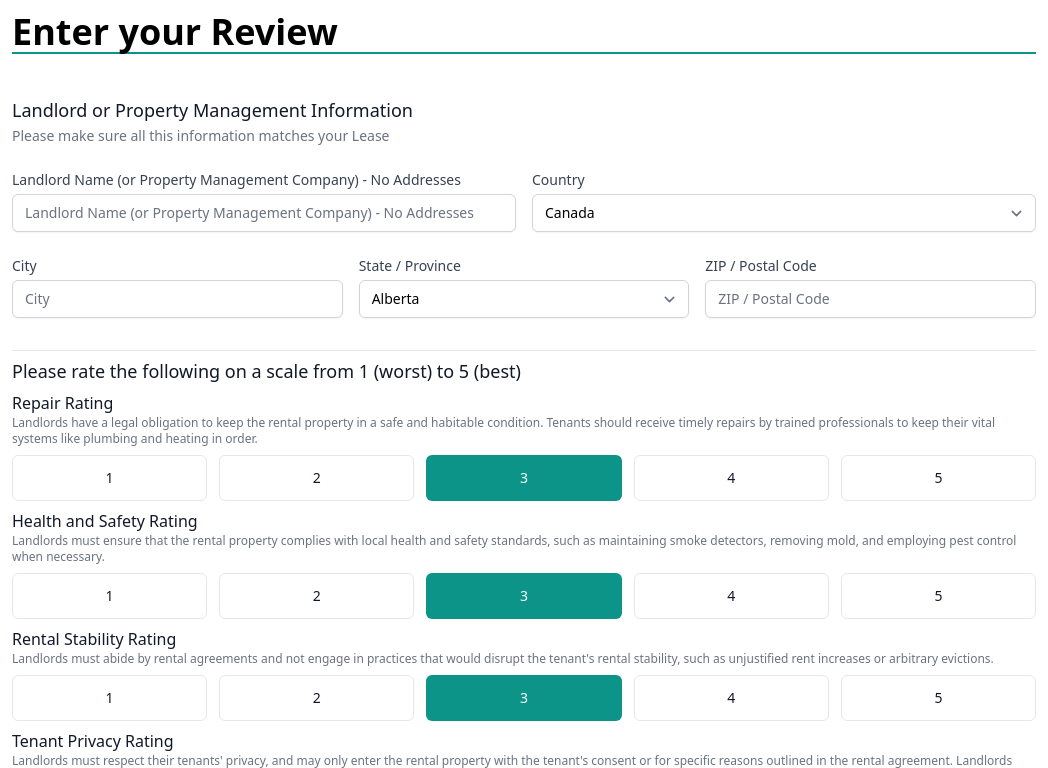
Scenario: Reset button clears the form
Type "V6C 1S9" into the field with test id "create-review-form-postal-code-1" at (871,299), box [705,280,1036,318]
(page scrolled)
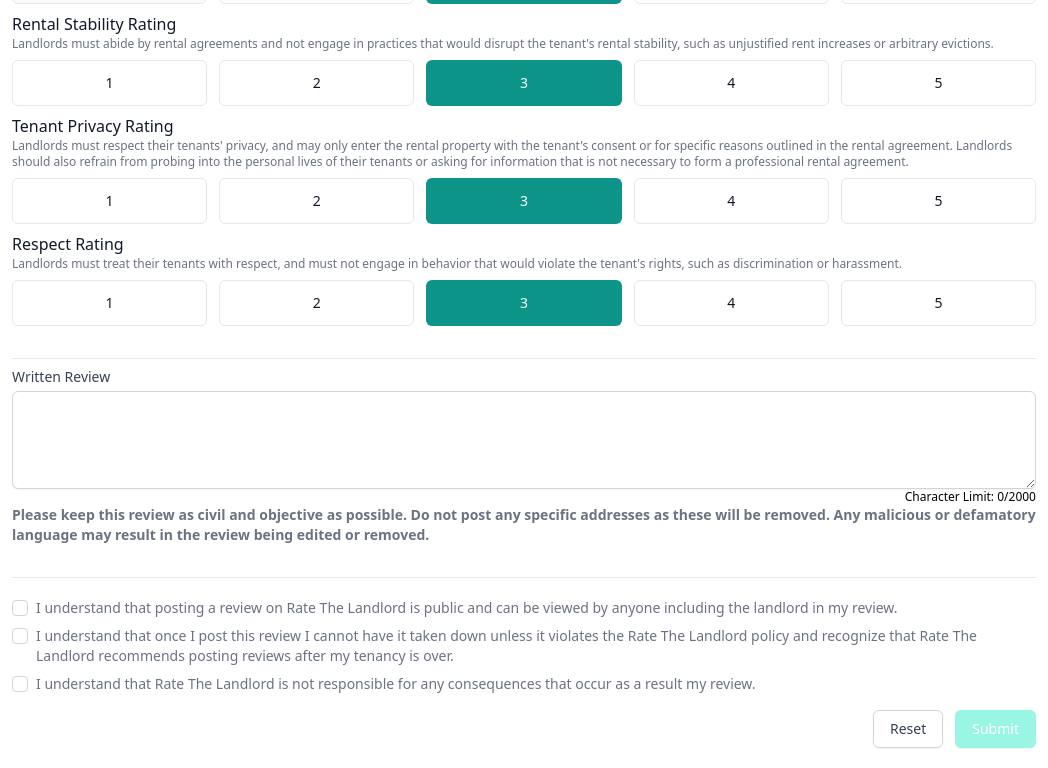
Type "some review" into the text box with test id "create-review-form-text-1" at (524,440), box [12,391,1036,489]
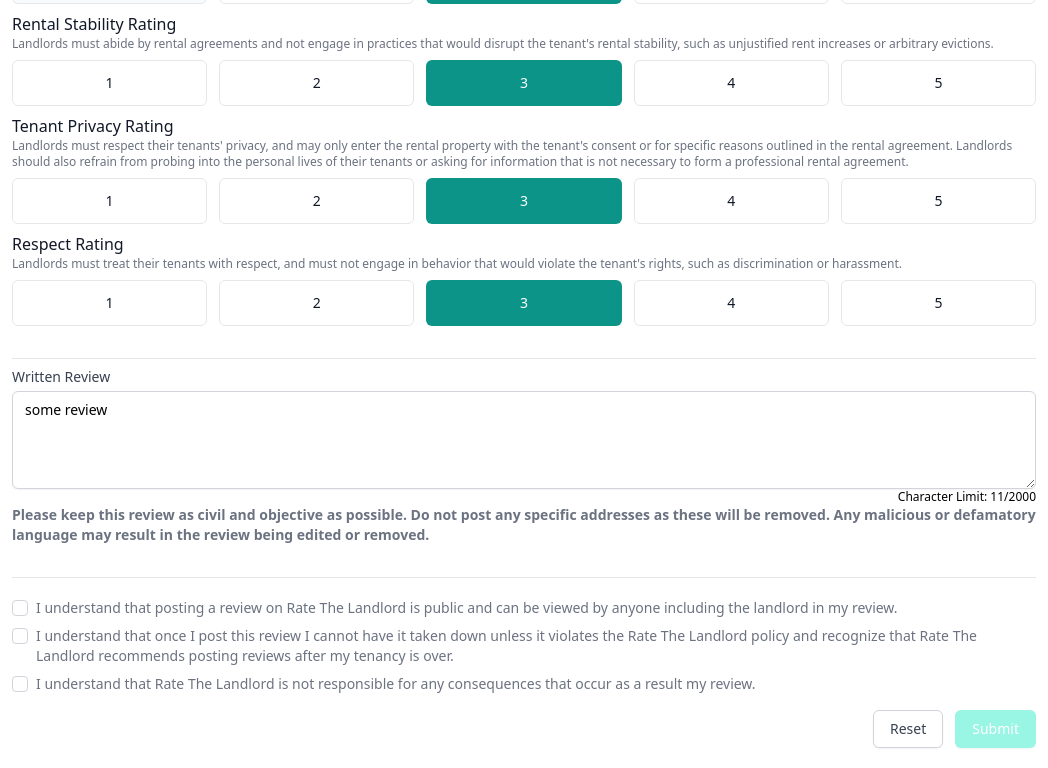
Click the button with test id "light-button" at (908,729), box [873,710,943,748]
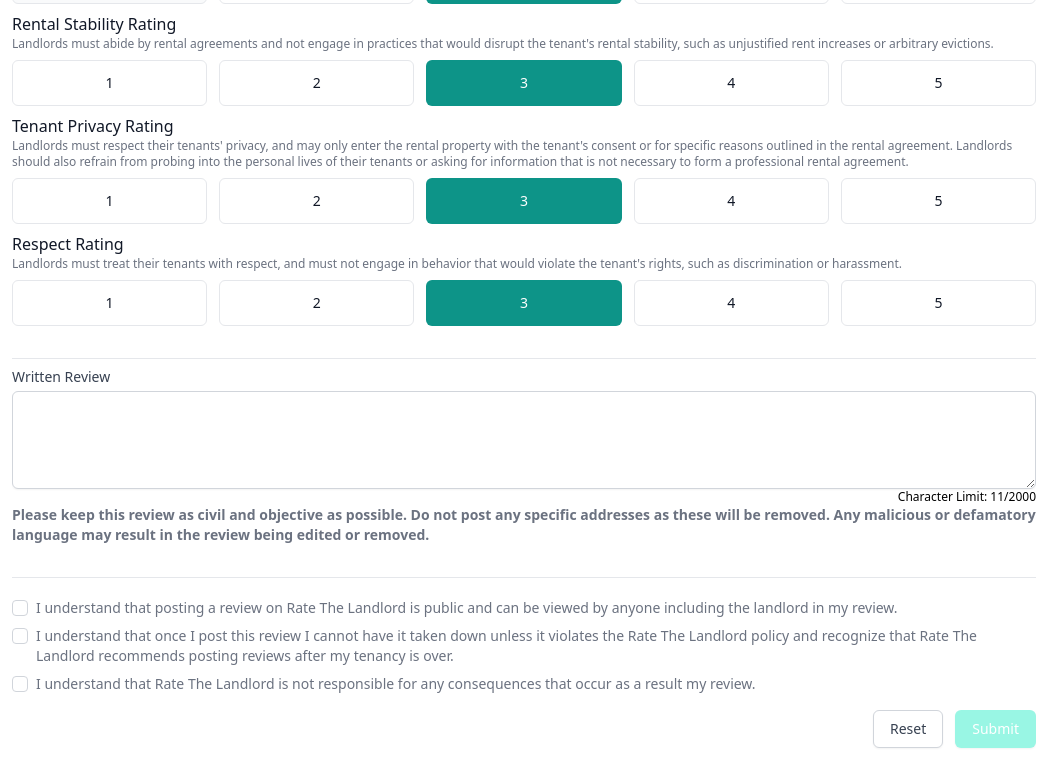
Now the text box with test id "create-review-form-text-1" is empty, box [12,391,1036,489]
